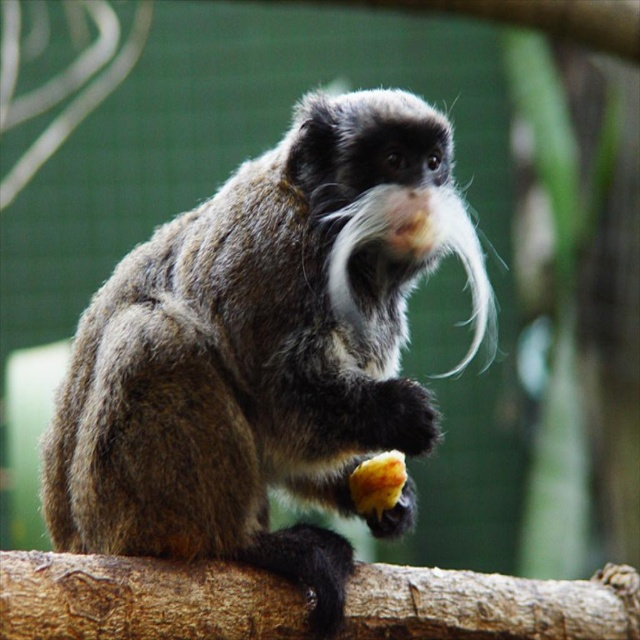Monkey: (34, 79, 510, 640)
